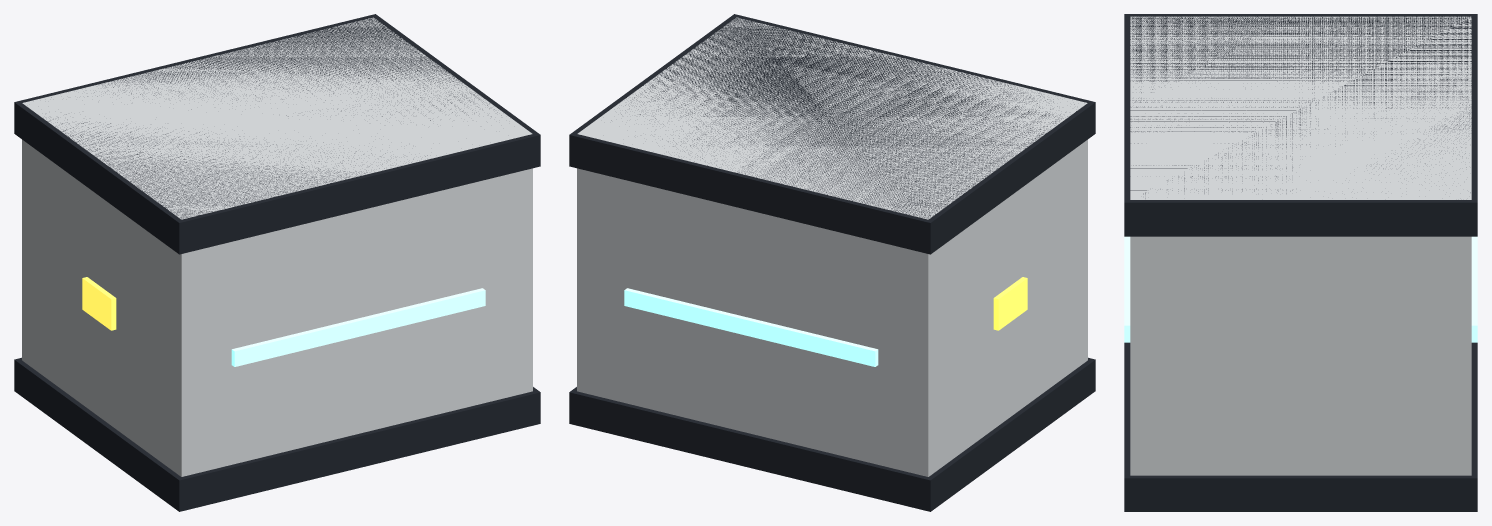
File: os_cargo_crate.glb
3 renders of one model, left to right at view 1: azimuth 30°, elevation 25°; view 2: azimuth 150°, elevation 25°; view 3: azimuth 270°, elevation 25°, orthographic. The views are drawn at different scales.
Parts seen in each view (by area): view 1: os_cargo_crate; view 2: os_cargo_crate; view 3: os_cargo_crate.
Part boxes in pixels (x1,y1,x2,y2): os_cargo_crate: (14,14,540,511); os_cargo_crate: (569,14,1095,511); os_cargo_crate: (1124,14,1477,511).
Bounding box in the file's own units: 1.44 × 1.1 × 1.14.
